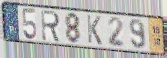2: (107, 16, 126, 50)
5: (21, 8, 37, 41)
8: (64, 11, 82, 45)
9: (128, 18, 147, 51)
K: (86, 14, 104, 47)
R: (40, 9, 62, 44)
